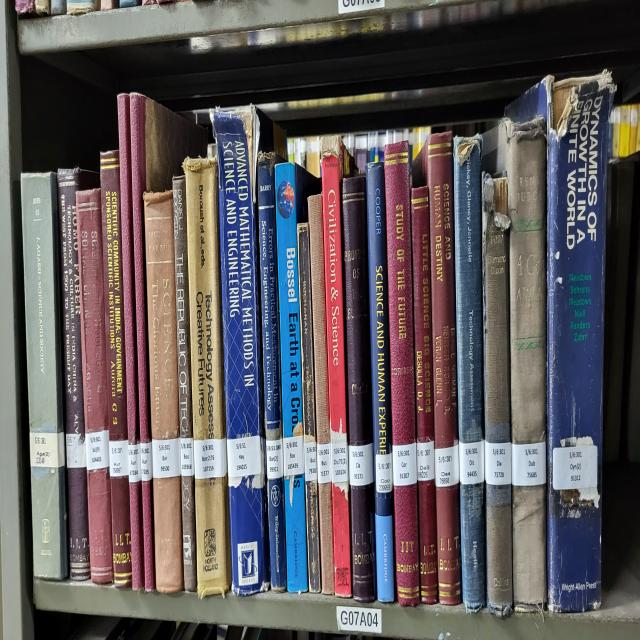Book: (505, 70, 615, 611), (482, 116, 546, 611), (211, 106, 269, 595), (184, 157, 230, 598), (275, 162, 320, 593), (21, 173, 68, 579), (58, 168, 100, 579), (384, 141, 420, 606), (426, 133, 461, 603), (144, 189, 184, 593), (76, 189, 114, 584), (454, 135, 485, 611), (342, 176, 376, 603), (320, 135, 351, 598), (100, 152, 132, 587), (118, 95, 145, 590), (482, 173, 512, 617), (258, 152, 288, 590), (366, 162, 395, 603), (411, 187, 438, 603), (172, 176, 198, 590), (309, 195, 335, 593), (298, 222, 320, 593), (130, 95, 151, 446), (141, 452, 155, 590)
Label: (552, 444, 598, 490), (511, 441, 546, 487), (228, 436, 261, 479), (194, 438, 228, 479), (30, 430, 65, 468), (152, 438, 181, 479), (435, 441, 460, 487), (392, 444, 418, 487), (485, 441, 511, 484), (349, 444, 374, 487), (459, 441, 484, 484), (85, 430, 110, 471), (282, 436, 305, 476), (416, 441, 435, 482), (266, 438, 284, 479), (66, 433, 86, 468), (109, 441, 129, 476), (375, 452, 392, 492), (316, 444, 331, 484), (304, 441, 318, 482), (180, 438, 194, 476), (140, 441, 152, 482), (129, 444, 141, 484)
